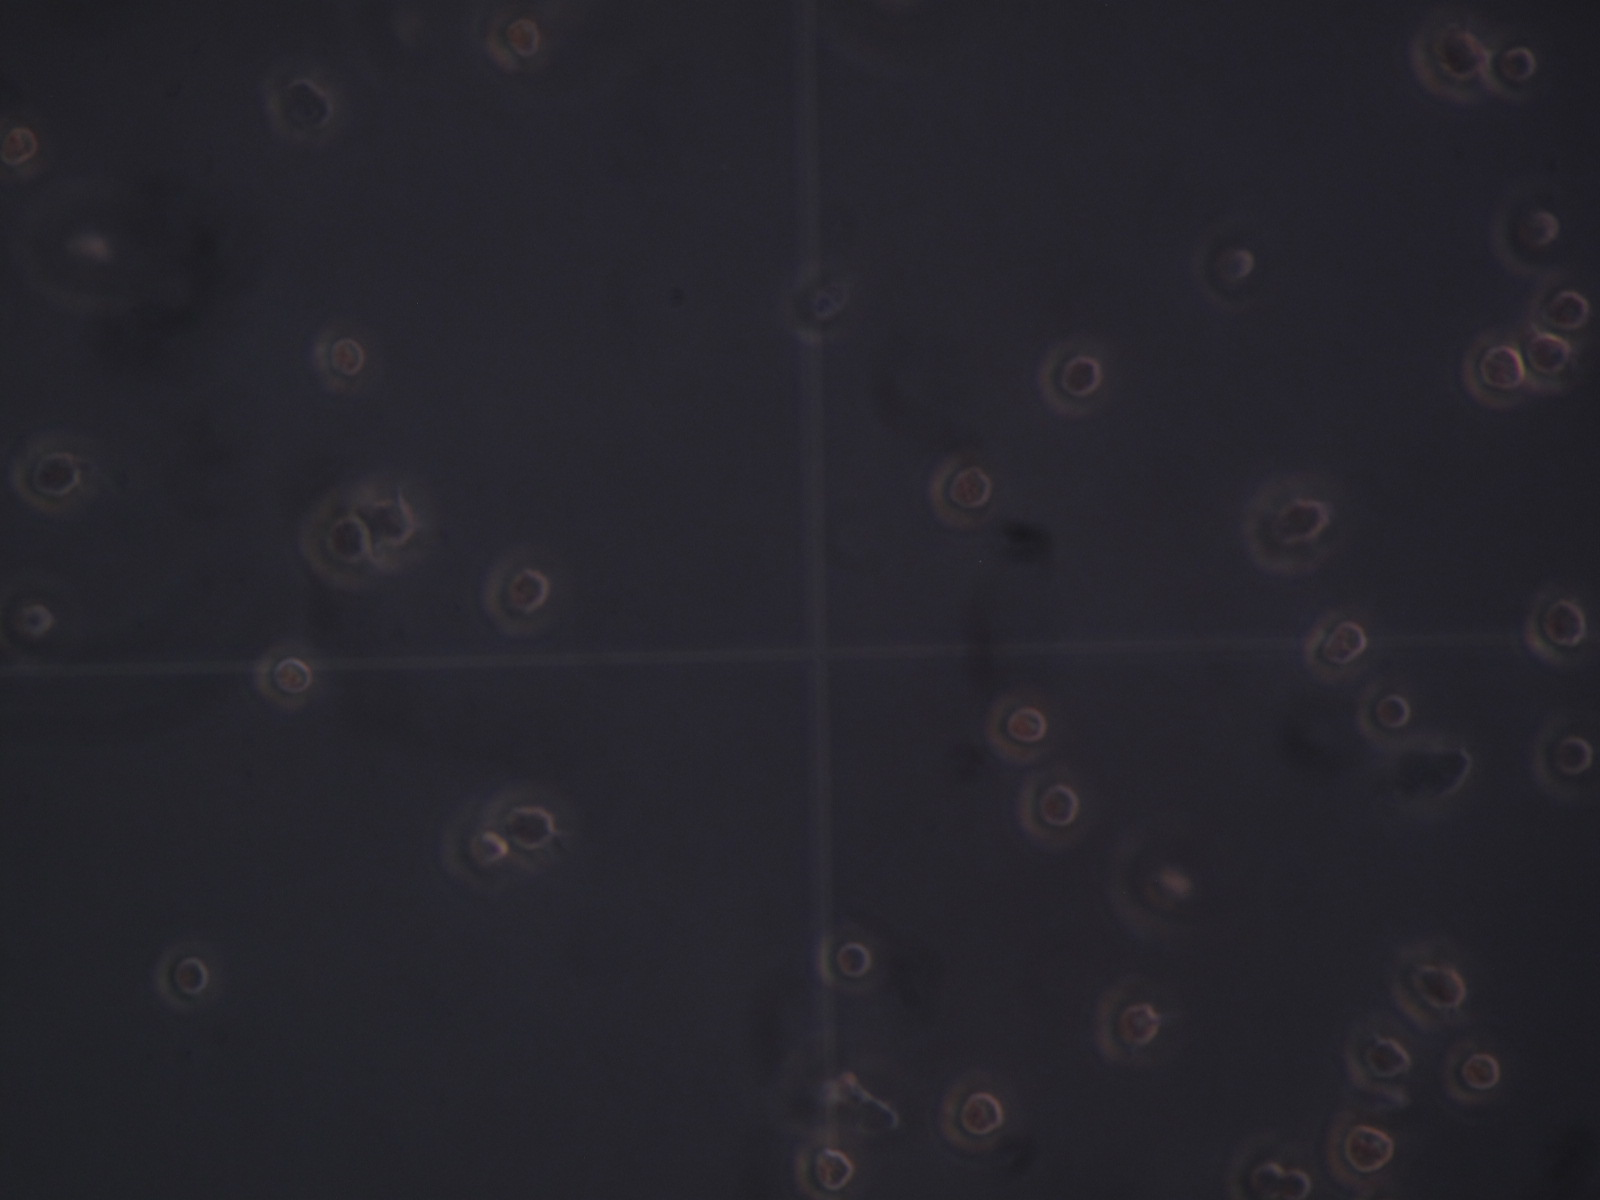hemo: (1241, 480, 1330, 575), (1373, 736, 1471, 821), (1106, 851, 1192, 937), (299, 497, 373, 587), (1409, 21, 1490, 102), (1390, 945, 1466, 1029), (1490, 189, 1558, 276), (438, 811, 510, 892), (1194, 224, 1256, 313), (483, 556, 549, 637), (1325, 1111, 1395, 1187), (1532, 718, 1595, 803), (1095, 986, 1160, 1066), (485, 790, 556, 863), (11, 441, 82, 514), (1344, 1026, 1411, 1098), (1038, 343, 1104, 416), (1460, 334, 1524, 408), (1524, 590, 1586, 667), (266, 76, 335, 142), (939, 1082, 1004, 1152), (1018, 771, 1080, 846), (929, 458, 993, 528), (1304, 613, 1368, 681), (985, 695, 1048, 763), (367, 492, 420, 572), (1, 581, 54, 658), (1531, 275, 1591, 340), (253, 645, 312, 710), (154, 945, 210, 1012), (1356, 681, 1411, 747), (794, 1141, 855, 1200), (1444, 1041, 1500, 1105), (816, 932, 874, 993), (1522, 326, 1574, 395), (312, 329, 367, 393), (1227, 1141, 1284, 1200), (486, 11, 542, 72), (1487, 43, 1537, 103), (1, 116, 38, 182), (1271, 1167, 1311, 1200)
